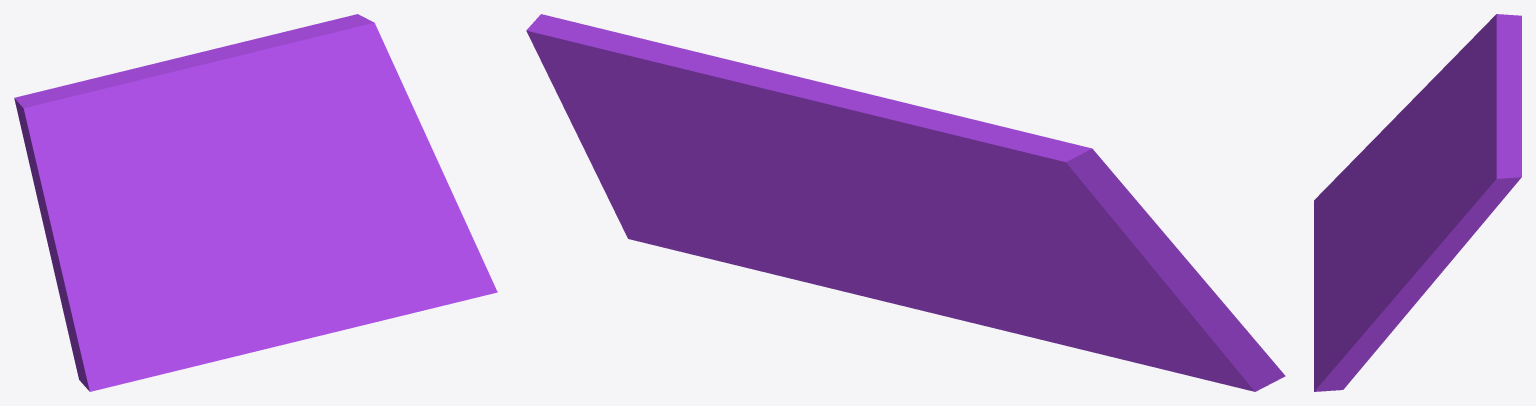
The model's file is Window_130_chunks.fbx.
The picture shows the model from 3 angles, left to right: view 1: azimuth 30°, elevation 25°; view 2: azimuth 150°, elevation 25°; view 3: azimuth 270°, elevation 25°; orthographic projection. The views are drawn at different scales.
Parts seen in each view (by area): view 1: Window_130_2, Window_130_0, Window_130_3, Window_130_1; view 2: Window_130_0, Window_130_1, Window_130_3, Window_130_2; view 3: Window_130_3, Window_130_1, Window_130_0, Window_130_2.
Part boxes in pixels (x1,y1,x2,y2): Window_130_2: (60,191,344,391); Window_130_0: (14,55,232,296); Window_130_3: (188,14,431,203); Window_130_1: (262,147,497,329); Window_130_0: (790,85,1205,324); Window_130_1: (570,120,905,306); Window_130_3: (526,14,853,198); Window_130_2: (891,224,1285,391); Window_130_3: (1403,91,1521,277); Window_130_1: (1314,206,1444,391); Window_130_0: (1389,14,1521,181); Window_130_2: (1314,123,1414,319).
Size of the model in its own units: 1571 by 763 by 720.
